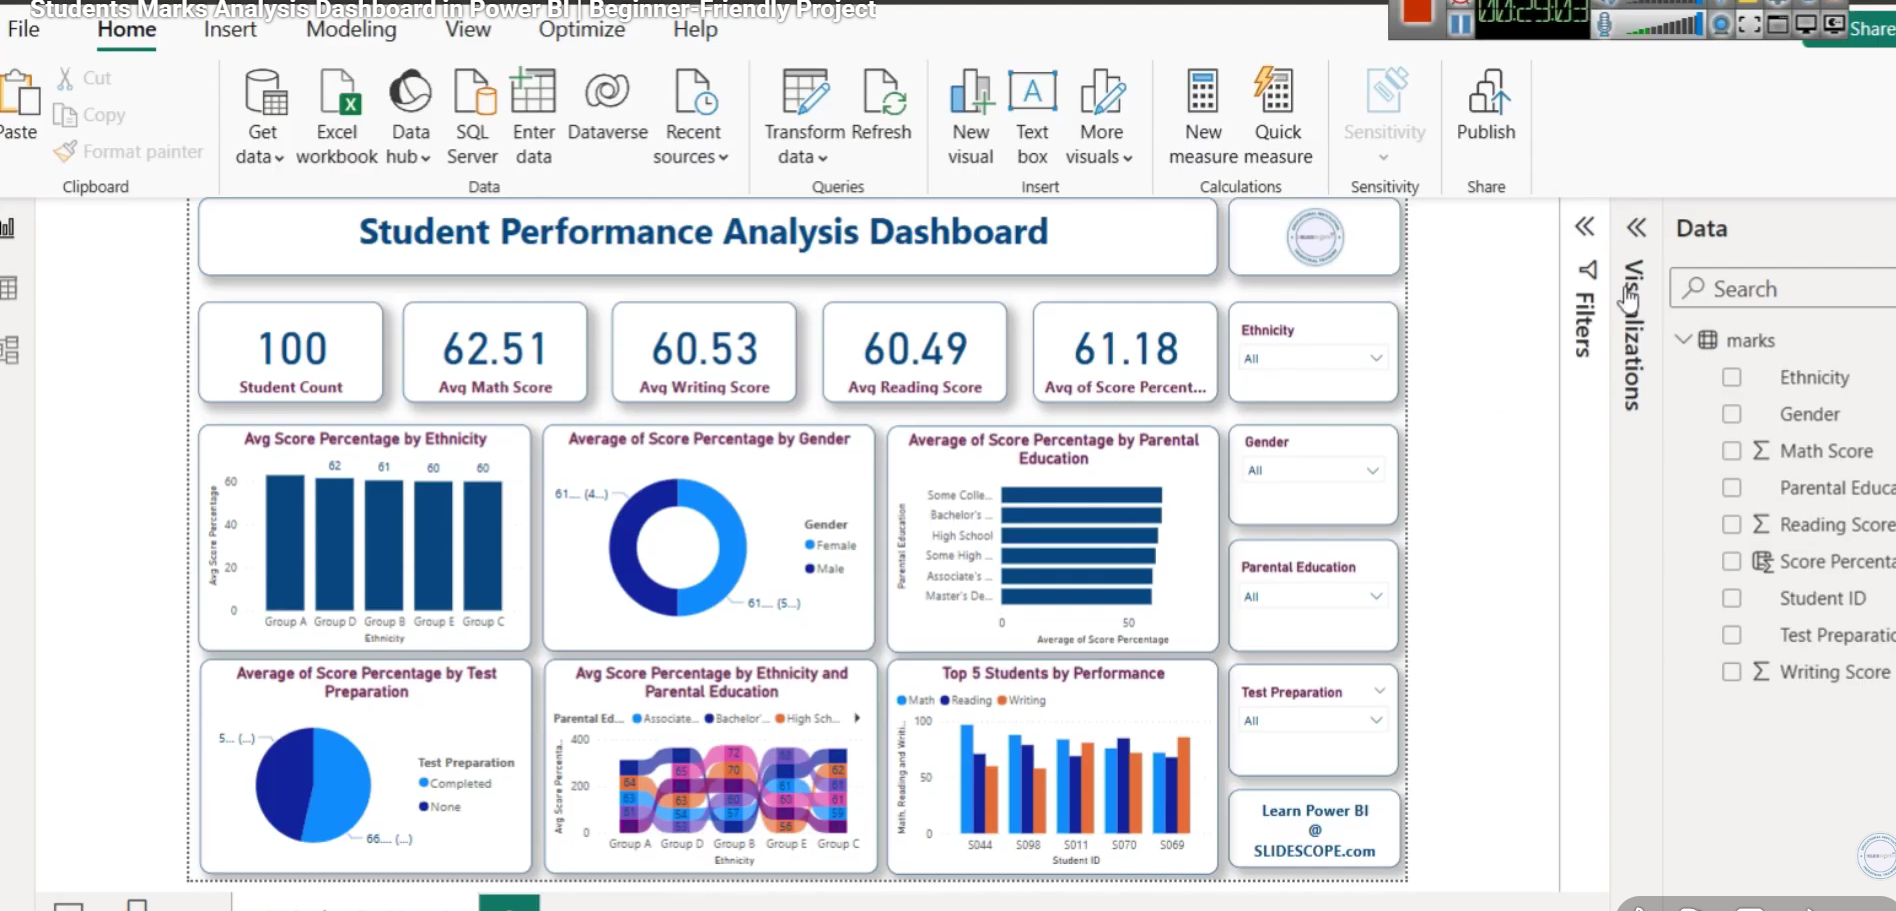

What the dashboard file says about the page in this screenshot:
{"tool":"powerbi","page":{"name":"All subjects dashboard","canvas":[1280,720],"ordinal":0},"visuals":[{"type":"textbox","box":[9.8,8.6,1084.7,67.3],"z":0},{"type":"cardVisual","fields":{"Data":["Count(Sheet1.Student ID)"]},"box":[11.8,82.6,205,118],"z":1000},{"type":"cardVisual","fields":{"Data":["Avg(Sheet1.Math Score)"]},"box":[232.2,82.6,205,118],"z":2000},{"type":"cardVisual","fields":{"Data":["Avg(Sheet1.Writing Score)"]},"box":[452.6,82.6,205,118],"z":3000},{"type":"cardVisual","fields":{"Data":["Avg(Sheet1.Reading Score)"]},"box":[672.9,82.6,209,118],"z":4000},{"type":"cardVisual","fields":{"Data":["Avg(Sheet1.Score Percentage)"]},"box":[892.8,82.6,204.5,118],"z":5000},{"type":"slicer","fields":{"Values":["Sheet1.Ethnicity"]},"box":[1107.9,8.6,162.6,193.2],"z":6000},{"type":"slicer","fields":{"Values":["Sheet1.Gender"]},"box":[1107.9,209.1,162.6,123.5],"z":7000},{"type":"slicer","fields":{"Values":["Sheet1.Parental Education"]},"box":[1107.9,458.6,162.6,253.1],"z":8000},{"type":"columnChart","fields":{"Category":["Sheet1.Ethnicity"],"Y":["Avg(Sheet1.Score Percentage)"]},"box":[15.1,211.3,296.4,247],"z":9000},{"type":"donutChart","fields":{"Category":["Sheet1.Gender"],"Y":["Avg(Sheet1.Score Percentage)"]},"box":[328,211.3,332.1,247],"z":10000},{"type":"barChart","fields":{"Category":["Sheet1.Parental Education"],"Y":["Avg(Sheet1.Score Percentage)"]},"box":[676.5,211.3,424,247],"z":11000},{"type":"pieChart","fields":{"Category":["Sheet1.Test Preparation"],"Y":["Avg(Sheet1.Score Percentage)"]},"box":[9.8,469.6,300.8,242.1],"z":12000},{"type":"ribbonChart","fields":{"Category":["Sheet1.Ethnicity"],"Series":["Sheet1.Parental Education"],"Y":["Avg(Sheet1.Score Percentage)"]},"box":[327.7,469.6,431.7,242.1],"z":13000},{"type":"slicer","fields":{"Values":["Sheet1.Test Preparation"]},"box":[1106.7,339.9,163.9,111.3],"z":14000},{"type":"clusteredColumnChart","title":"Top 5 Students by Performance","fields":{"Y":["Avg(Sheet1.Math Score)","Avg(Sheet1.Reading Score)","Avg(Sheet1.Writing Score)"],"Category":["Sheet1.Student ID"]},"box":[777.7,473.2,316.7,238.5],"z":15000}]}

Visuals, with their boxes on the page's 1280x720 design canvas (x1, y1, x2, y2). These are canvas units, not pixel positions in the 1896x911 screenshot, which may show the page scaled, cropped or inside an application window:
textbox: bbox=(10, 9, 1094, 76)
cardVisual - Count(Sheet1.Student ID): bbox=(12, 83, 217, 201)
cardVisual - Avg(Sheet1.Math Score): bbox=(232, 83, 437, 201)
cardVisual - Avg(Sheet1.Writing Score): bbox=(453, 83, 658, 201)
cardVisual - Avg(Sheet1.Reading Score): bbox=(673, 83, 882, 201)
cardVisual - Avg(Sheet1.Score Percentage): bbox=(893, 83, 1097, 201)
slicer - Sheet1.Ethnicity: bbox=(1108, 9, 1270, 202)
slicer - Sheet1.Gender: bbox=(1108, 209, 1270, 333)
slicer - Sheet1.Parental Education: bbox=(1108, 459, 1270, 712)
columnChart - Sheet1.Ethnicity x Avg(Sheet1.Score Percentage): bbox=(15, 211, 312, 458)
donutChart - Sheet1.Gender x Avg(Sheet1.Score Percentage): bbox=(328, 211, 660, 458)
barChart - Sheet1.Parental Education x Avg(Sheet1.Score Percentage): bbox=(676, 211, 1100, 458)
pieChart - Sheet1.Test Preparation x Avg(Sheet1.Score Percentage): bbox=(10, 470, 311, 712)
ribbonChart - Sheet1.Ethnicity x Sheet1.Parental Education: bbox=(328, 470, 759, 712)
slicer - Sheet1.Test Preparation: bbox=(1107, 340, 1271, 451)
"Top 5 Students by Performance" clusteredColumnChart: bbox=(778, 473, 1094, 712)
